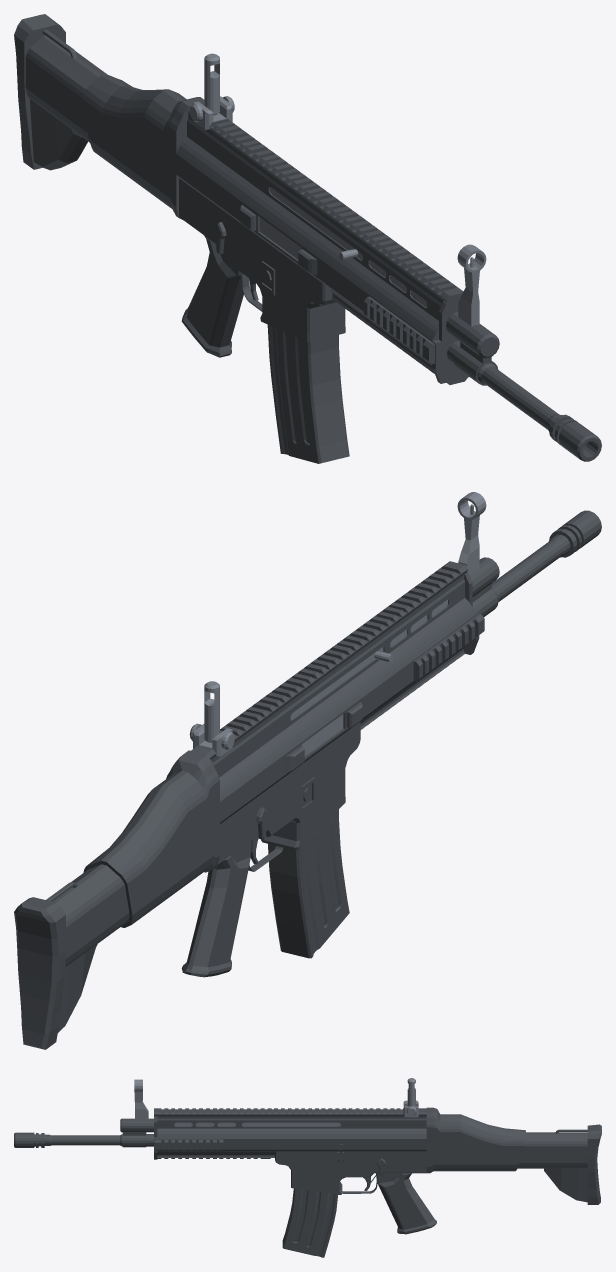
The model's file is scar.glb.
The picture shows the model from 3 angles, top to bottom: view 1: azimuth 30°, elevation 25°; view 2: azimuth 150°, elevation 25°; view 3: azimuth 270°, elevation 25°; orthographic projection. The views are drawn at different scales.
Visible parts, largest first — view 1: scar; view 2: scar; view 3: scar.
Part boxes in pixels (x1,y1,x2,y2): scar: (14,14,601,463); scar: (14,492,601,1049); scar: (14,1078,601,1257).
Bounding box in the file's own units: 0.0552 × 0.3165 × 0.965.
5 materials, 5 textured.
